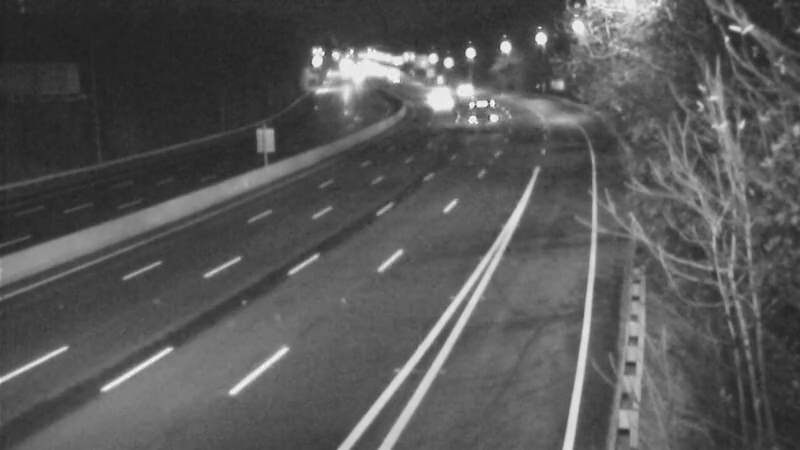vehicle: (438, 67, 488, 117), (414, 74, 464, 124), (453, 87, 503, 137)
